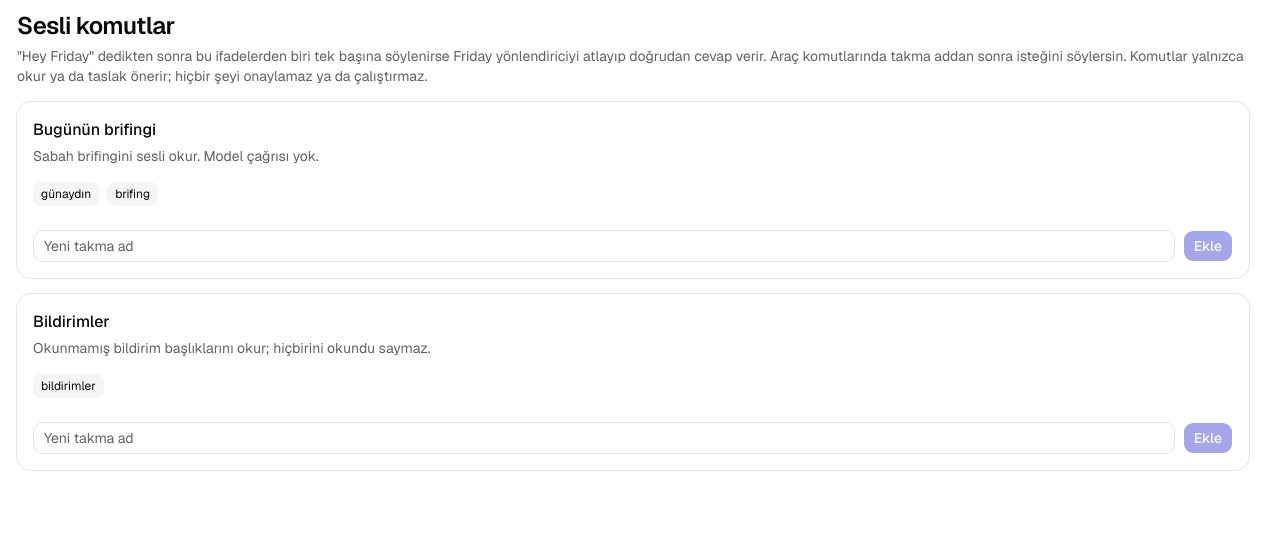
Test: WakeRoutesSettings › shows the conflict message from the error code
The image size is (1267, 542).
In the field named "Bildirimler için yeni takma ad": (604, 438) 33,422 -> 1175,454, type "günaydın"
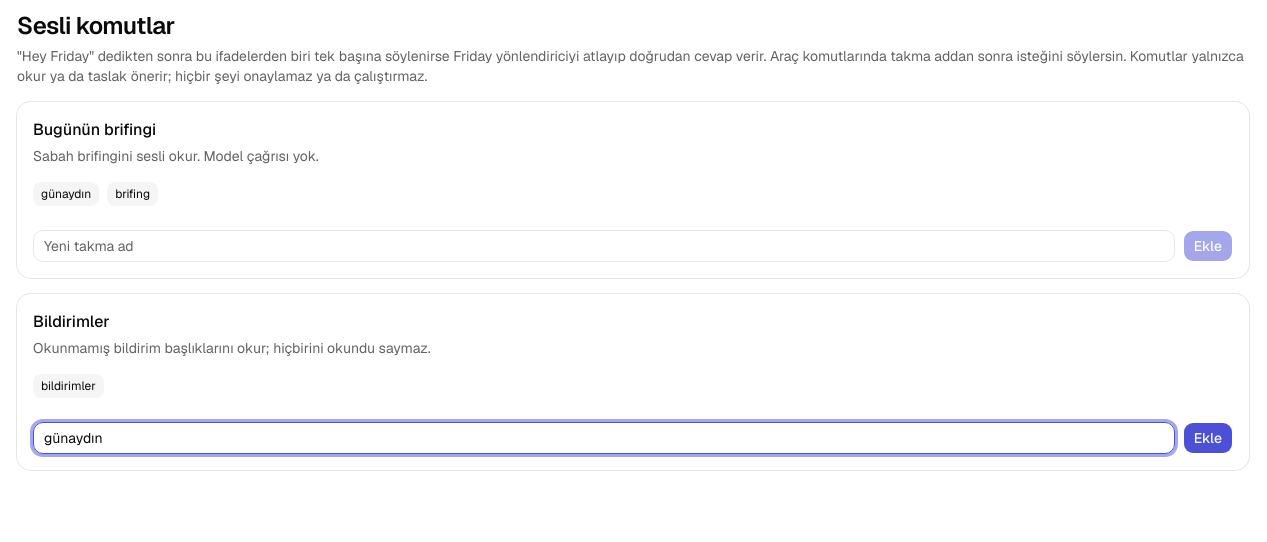
Click the 2nd button "Ekle": (1208, 438) 1183,422 -> 1233,454
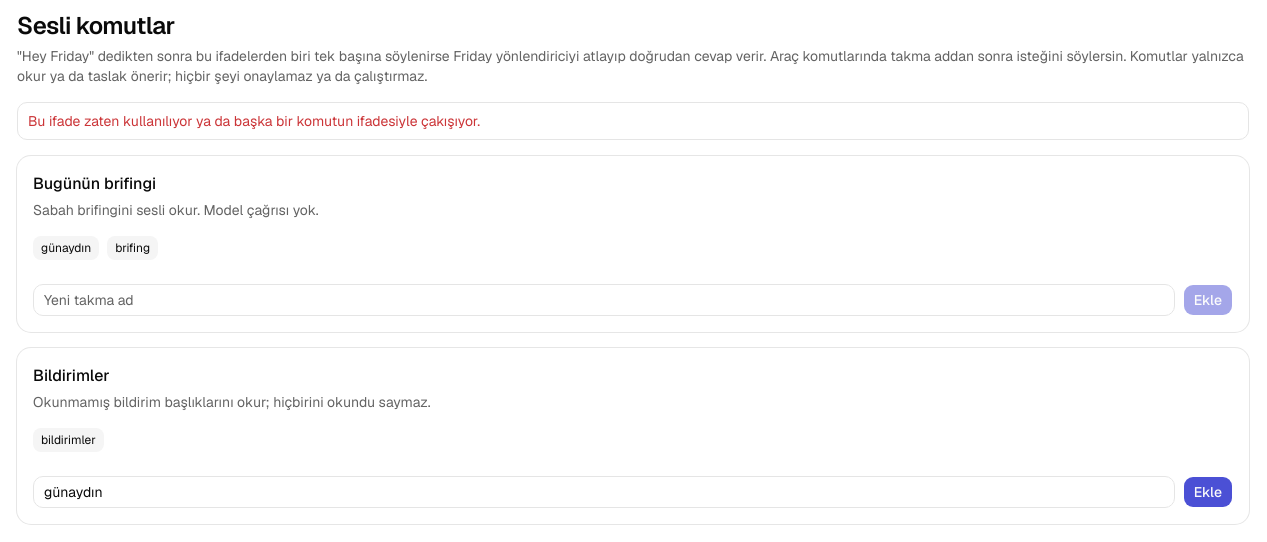
Result: the text "zaten kullanılıyor" is shown at 28,112 -> 480,130
